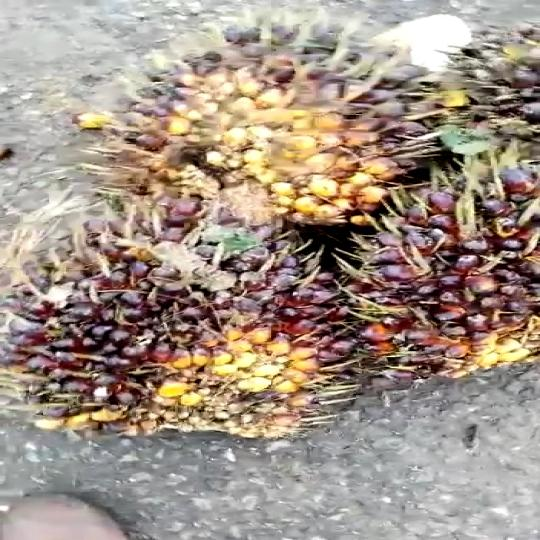kurang masak: (0, 199, 390, 471), (93, 14, 473, 222), (309, 160, 540, 380)
